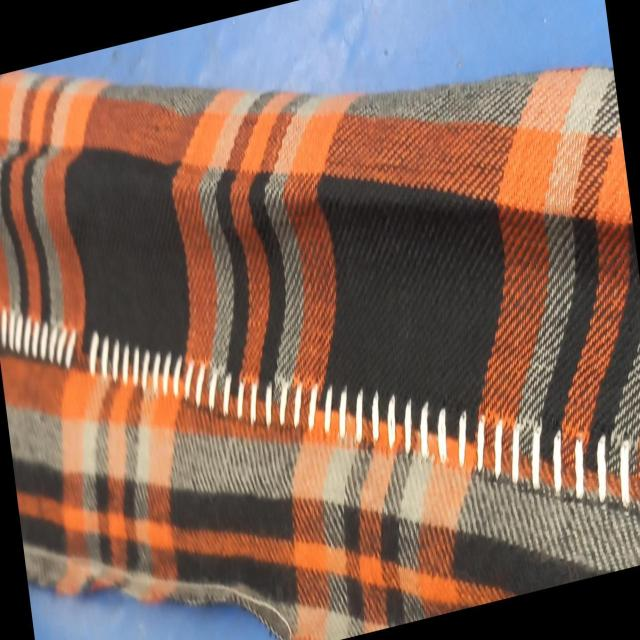gray stitch: (318, 311, 640, 561), (93, 278, 315, 472), (0, 248, 80, 376)
